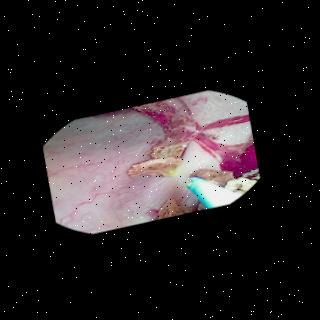fiber: (187, 179, 239, 207)
laser: (167, 170, 175, 175)
stone: (130, 140, 187, 176), (191, 170, 254, 194), (159, 198, 201, 218)
tissue: (46, 93, 252, 231)
